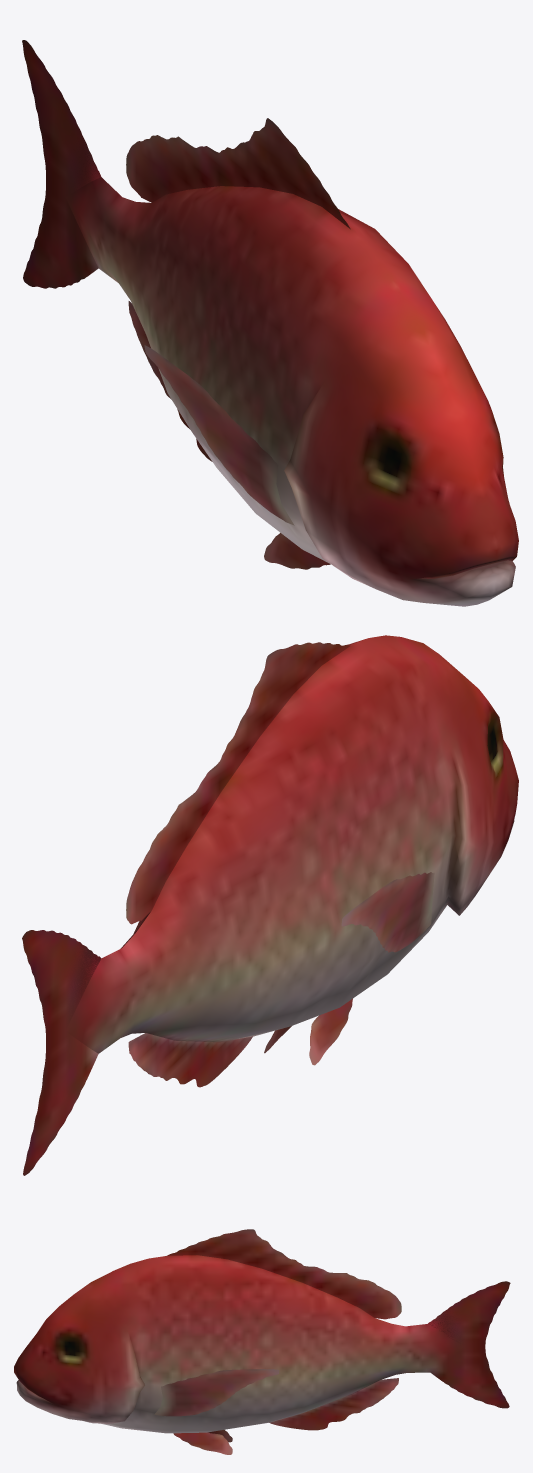
Rendered from red-snapper.glb.
3 renders of one model, top to bottom at view 1: azimuth 30°, elevation 25°; view 2: azimuth 150°, elevation 25°; view 3: azimuth 270°, elevation 25°, orthographic. The views are drawn at different scales.
Size of the model in its own units: 2.09 by 4.35 by 8.86.
Materials: 1 (1 with a texture image).
